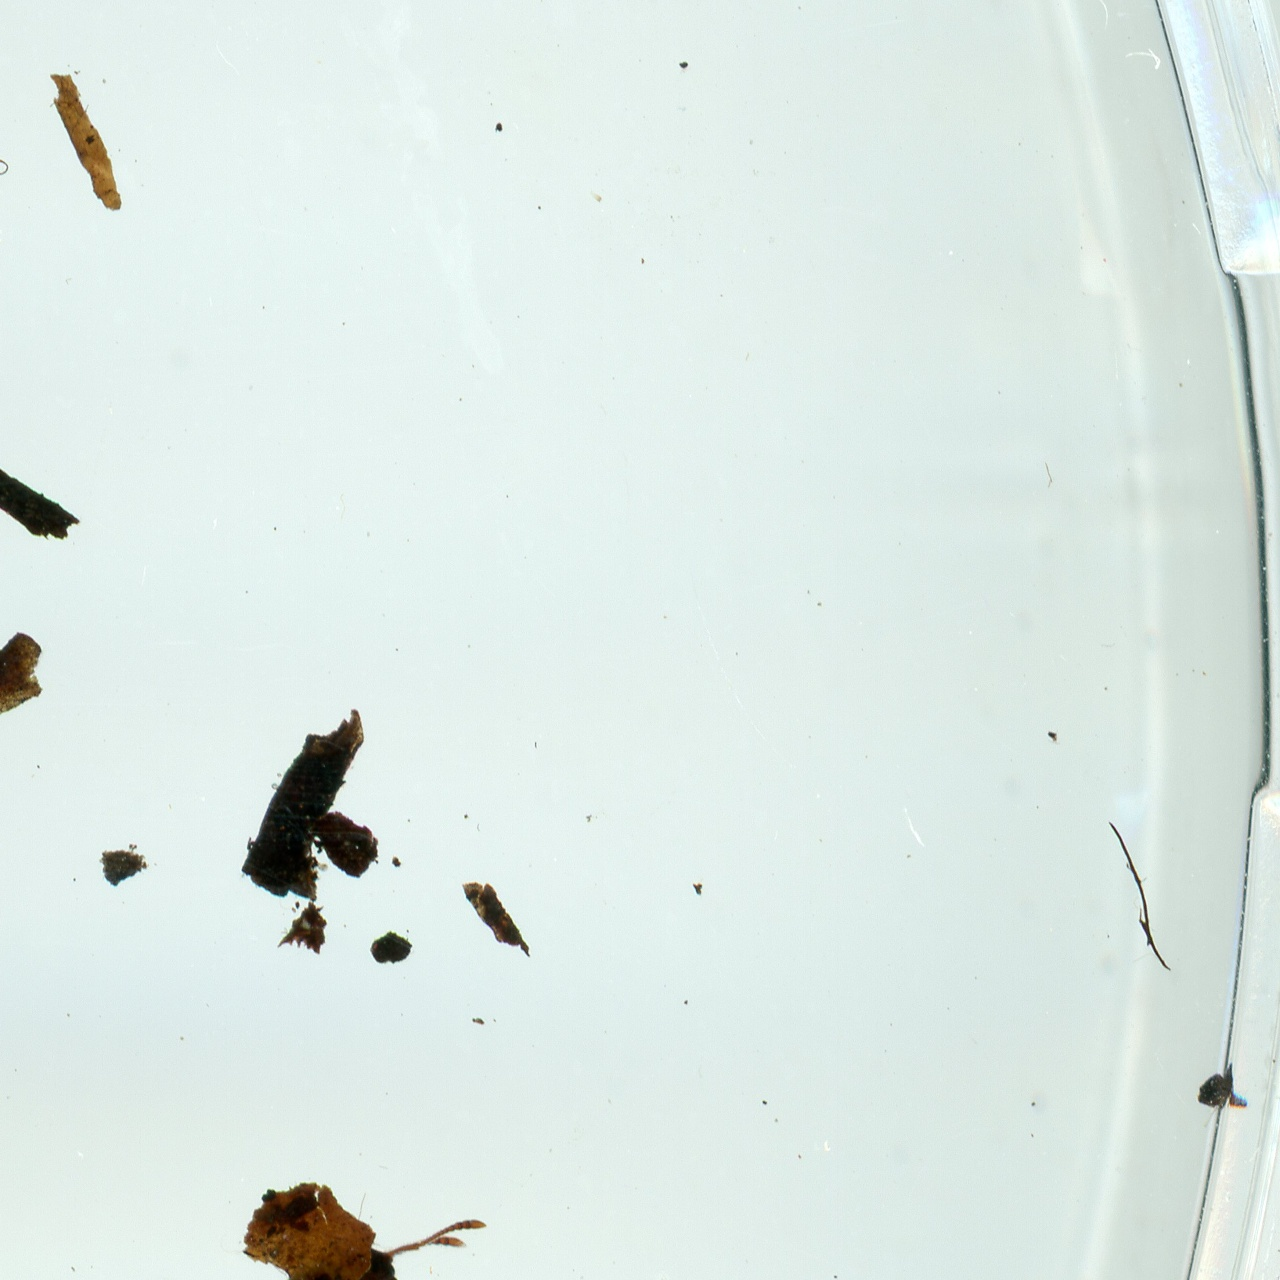arthropod: (182, 1138, 492, 1280)
